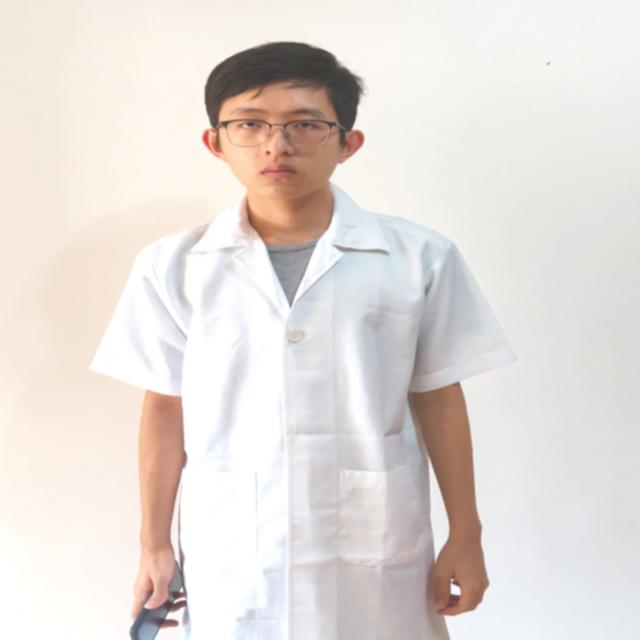person_with_labcoat: (90, 42, 516, 640)
